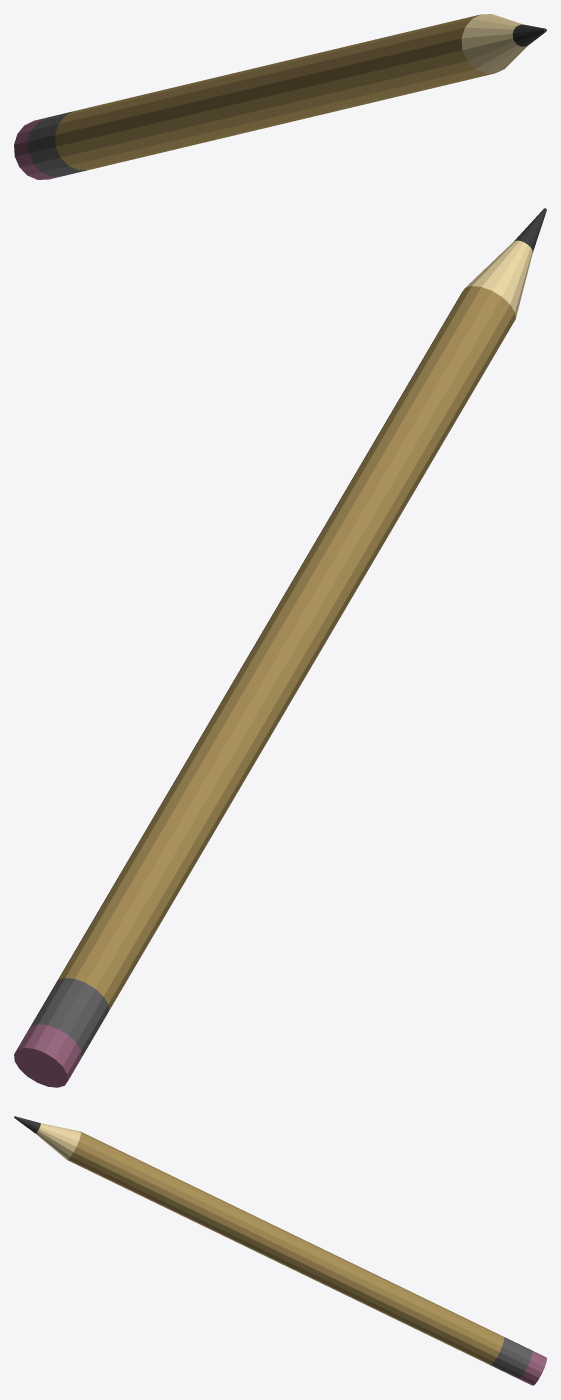
The model's file is constructor_face_model_1.gltf.
The picture shows the model from 3 angles, top to bottom: view 1: azimuth 30°, elevation 25°; view 2: azimuth 150°, elevation 25°; view 3: azimuth 270°, elevation 25°; orthographic projection. The views are drawn at different scales.
Visible parts, largest first — view 1: Цилиндр; view 2: Цилиндр; view 3: Цилиндр.
Boxes of the visible parts, left/top/right/bottom form: Цилиндр: left=14, top=14, right=546, bottom=179; Цилиндр: left=14, top=208, right=546, bottom=1087; Цилиндр: left=14, top=1116, right=546, bottom=1385.
Bounding box in the file's own units: 0.6522 × 6.1 × 11.
